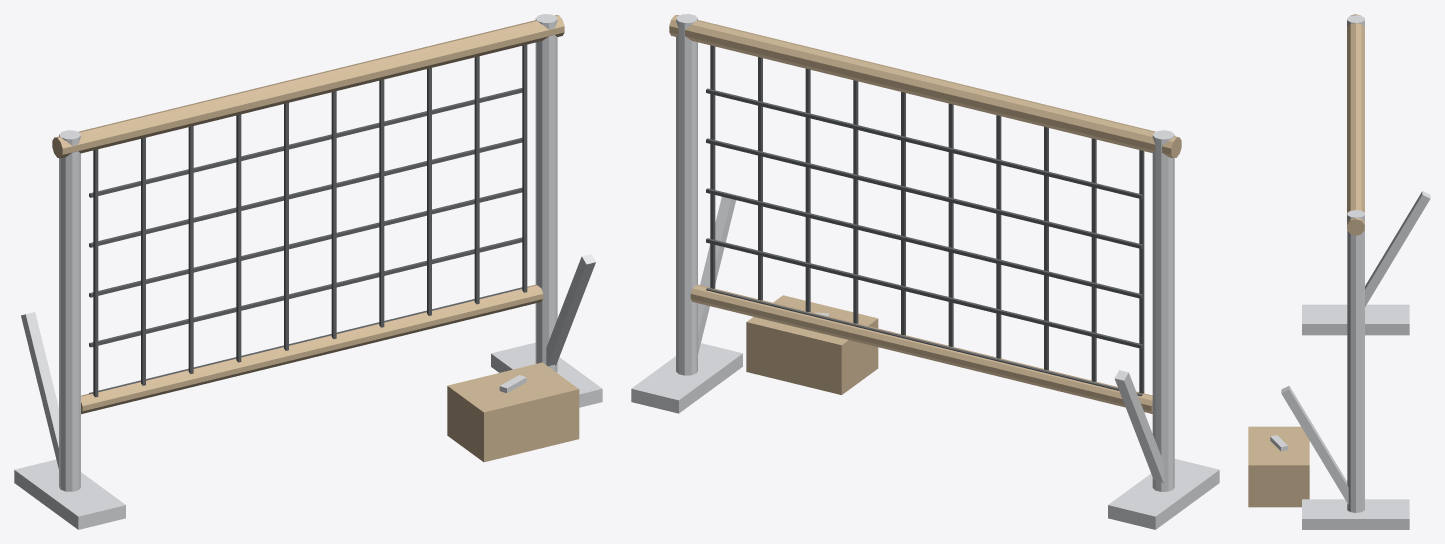
The model's file is fish-market-and-trawler-quay-fish-market-and-trawler-q-499ff694__37311.glb.
3 views of the same model, side by side, from view 1: azimuth 30°, elevation 25°; view 2: azimuth 150°, elevation 25°; view 3: azimuth 270°, elevation 25° (orthographic). The views are drawn at different scales.
Parts seen in each view (by area): view 1: fish-market-and-trawler-quay-net-mending-frame; view 2: fish-market-and-trawler-quay-net-mending-frame; view 3: fish-market-and-trawler-quay-net-mending-frame.
Part boxes in pixels (x1=…): fish-market-and-trawler-quay-net-mending-frame: x1=14, y1=14, x2=602, y2=529; fish-market-and-trawler-quay-net-mending-frame: x1=631, y1=14, x2=1219, y2=529; fish-market-and-trawler-quay-net-mending-frame: x1=1248, y1=14, x2=1430, y2=529.
Bounding box in the file's own units: 3.3 × 2.2 × 1.19.
